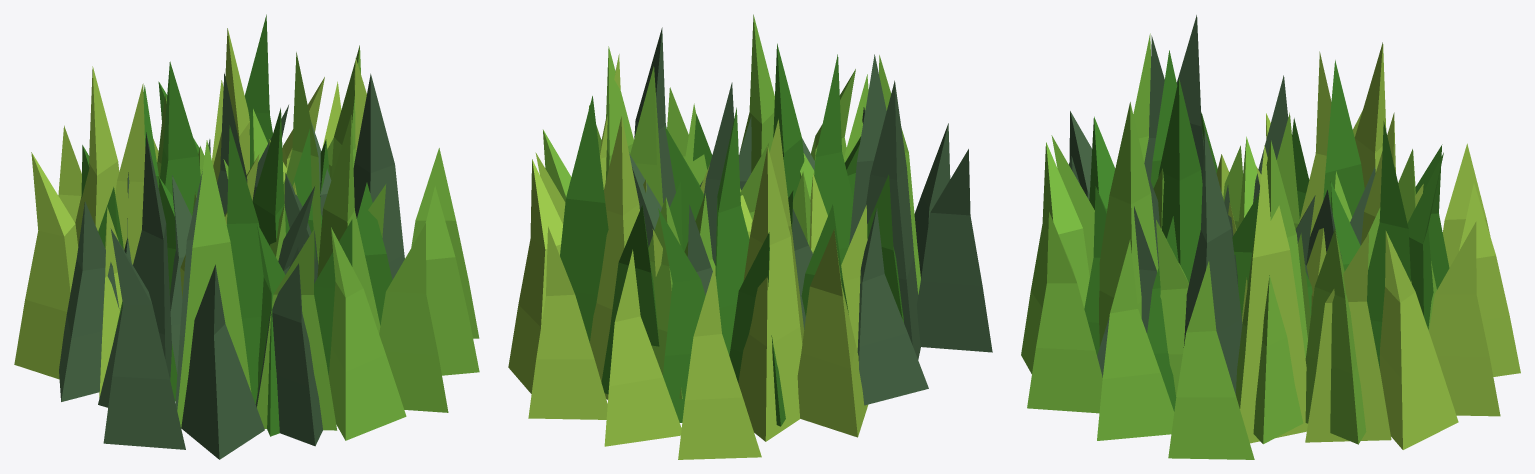
The model's file is grass2.fbx.
3 views of the same model, side by side, from view 1: azimuth 30°, elevation 25°; view 2: azimuth 150°, elevation 25°; view 3: azimuth 270°, elevation 25° (orthographic). The views are drawn at different scales.
Visible parts, largest first — view 1: grass; view 2: grass; view 3: grass.
Part boxes in pixels (bbox=[...]): grass: bbox=[14, 14, 479, 459]; grass: bbox=[508, 14, 992, 459]; grass: bbox=[1021, 15, 1520, 459].
Bounding box in the file's own units: 115 × 79.89 × 123.
